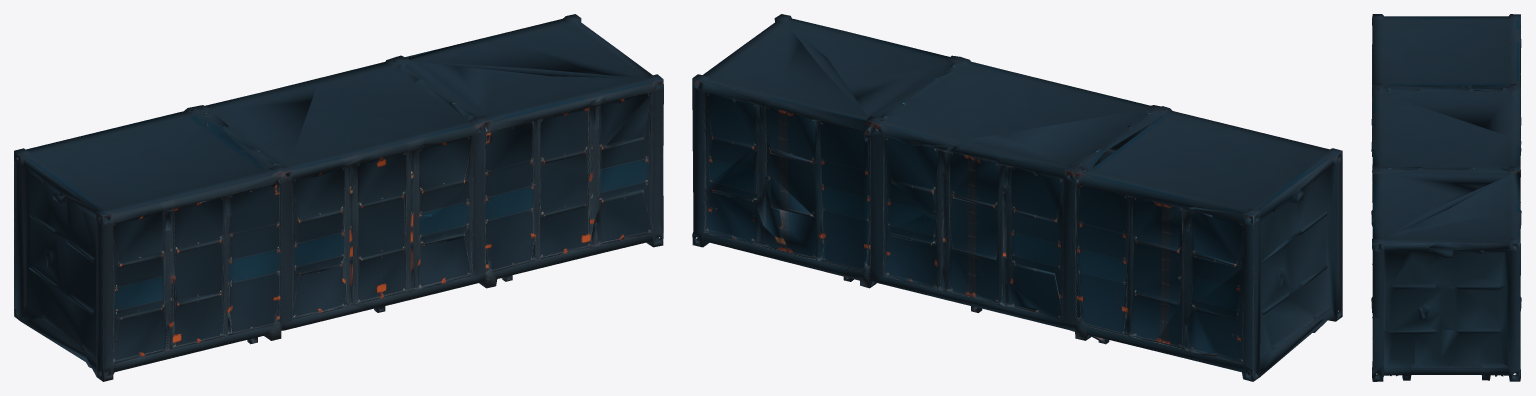
3 renders of one model, left to right at view 1: azimuth 30°, elevation 25°; view 2: azimuth 150°, elevation 25°; view 3: azimuth 270°, elevation 25°, orthographic. The views are drawn at different scales.
Bounding box in the file's own units: 1.9 × 0.5448 × 0.5231.
Materials: 1 (1 with a texture image).
